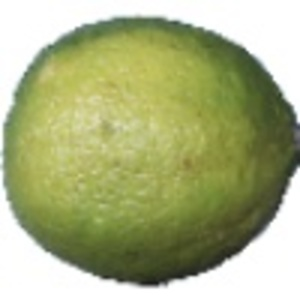limão: (1, 14, 300, 285)
